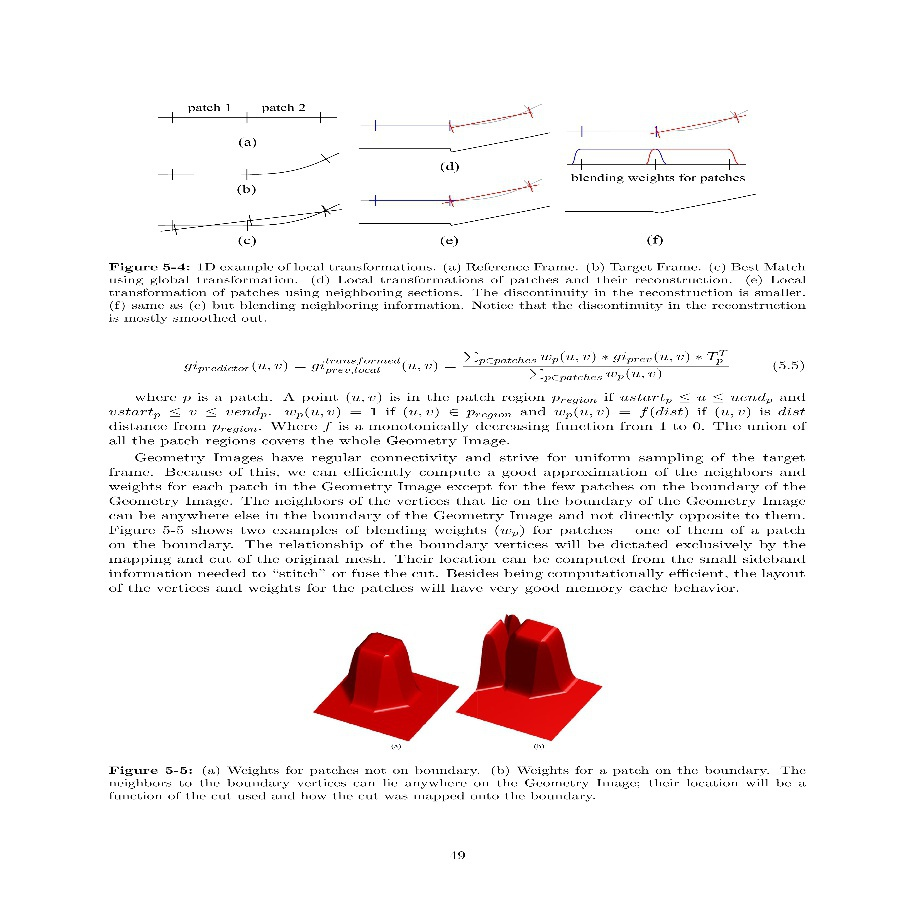eq: (180, 345, 738, 388)
